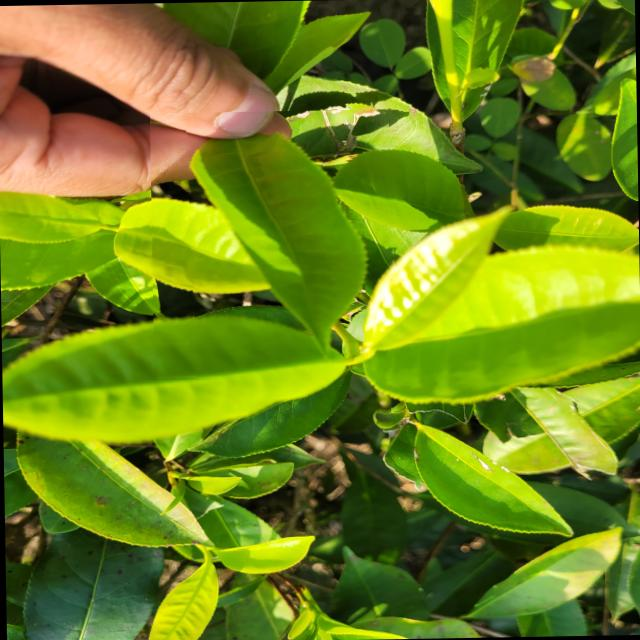Category B(2-4 days): (148, 109, 398, 380)
